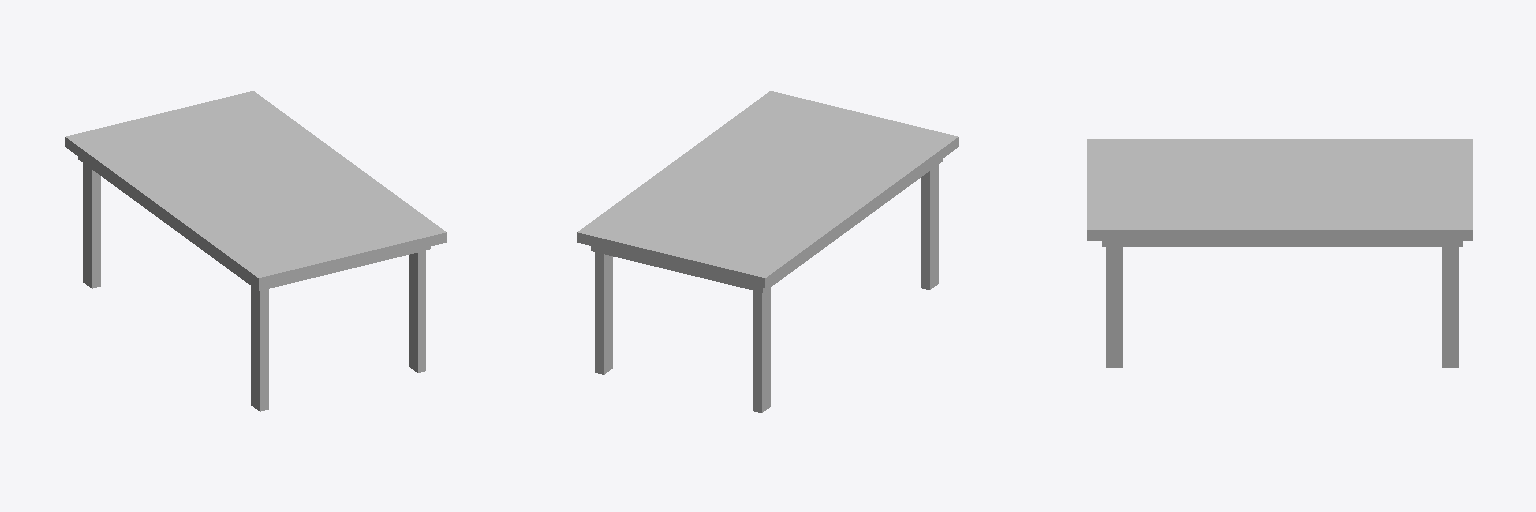
File: TriTable.obj
3 renders of one model, left to right at view 1: azimuth 30°, elevation 25°; view 2: azimuth 150°, elevation 25°; view 3: azimuth 270°, elevation 25°, orthographic.
Parts seen in each view (by area): view 1: Cube.001; view 2: Cube.001; view 3: Cube.001.
Part boxes in pixels (x1,y1,x2,y2): Cube.001: (65, 91, 446, 411); Cube.001: (577, 91, 958, 412); Cube.001: (1087, 139, 1472, 367).
Bounding box in the file's own units: 1.12 × 0.8156 × 2.